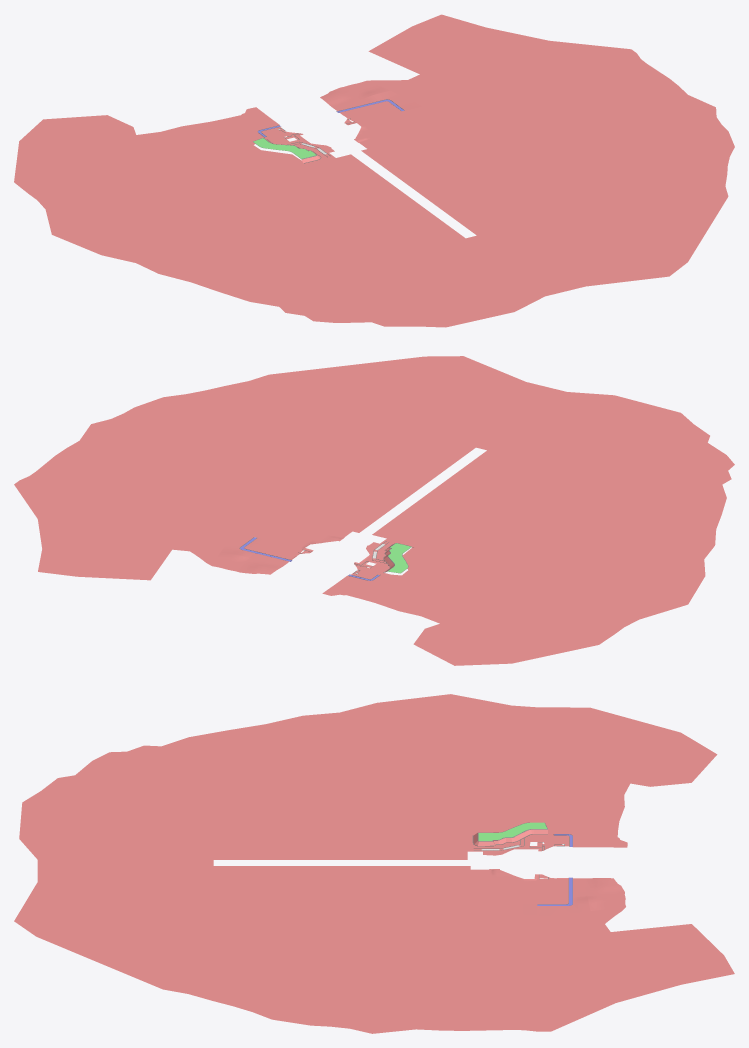
Rendered from SM_ENV_KNVLLG03_ground_distant.gltf.
The picture shows the model from 3 angles, top to bottom: view 1: azimuth 30°, elevation 25°; view 2: azimuth 150°, elevation 25°; view 3: azimuth 270°, elevation 25°; orthographic projection. The views are drawn at different scales.
Parts seen in each view (by area): view 1: SM_ENV_KNVLLG03_ground_distant; view 2: SM_ENV_KNVLLG03_ground_distant; view 3: SM_ENV_KNVLLG03_ground_distant.
Boxes of the visible parts, x1,y1,x2,y2 form: SM_ENV_KNVLLG03_ground_distant: [14, 14, 734, 327]; SM_ENV_KNVLLG03_ground_distant: [14, 356, 734, 665]; SM_ENV_KNVLLG03_ground_distant: [14, 694, 734, 1033].
Size of the model in its own units: 1453 by 6.25 by 1303.
